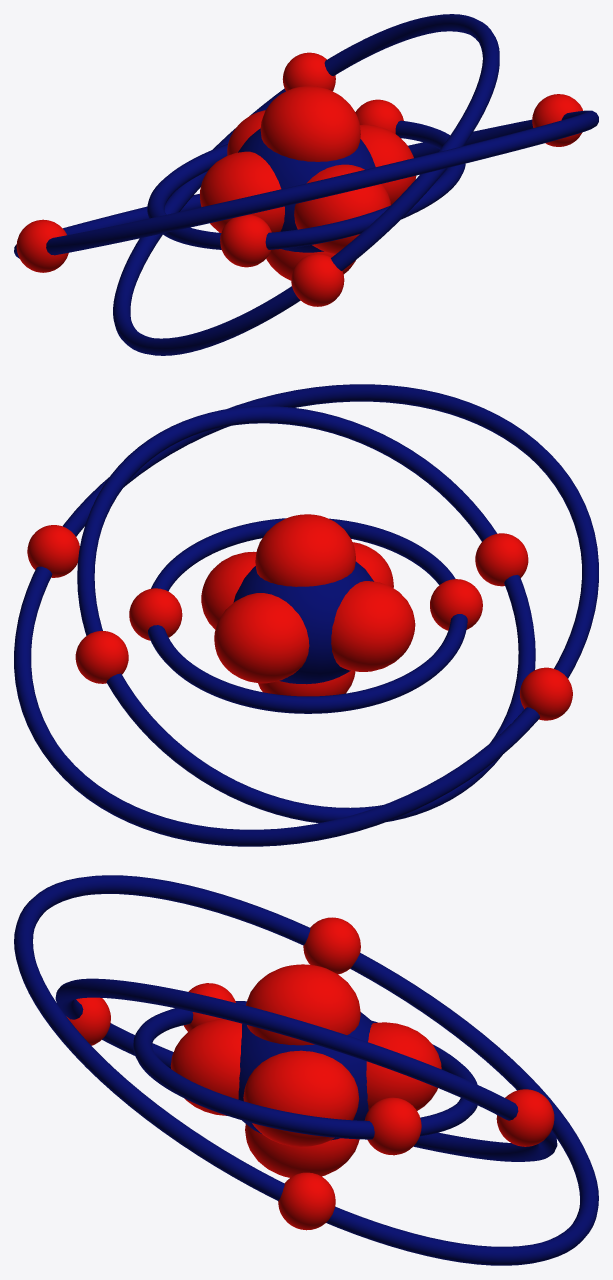
Rendered from atom.glb.
3 views of the same model, one above another, from view 1: azimuth 30°, elevation 25°; view 2: azimuth 150°, elevation 25°; view 3: azimuth 270°, elevation 25° (orthographic). The views are drawn at different scales.
Parts seen in each view (by area): view 1: NurbsCircle; view 2: NurbsCircle; view 3: NurbsCircle.
Boxes of the visible parts, left/top/right/bottom form: NurbsCircle: left=14, top=14, right=598, bottom=355; NurbsCircle: left=14, top=384, right=598, bottom=846; NurbsCircle: left=14, top=875, right=598, bottom=1265.
Size of the model in its own units: 8.58 by 4.04 by 7.27.
